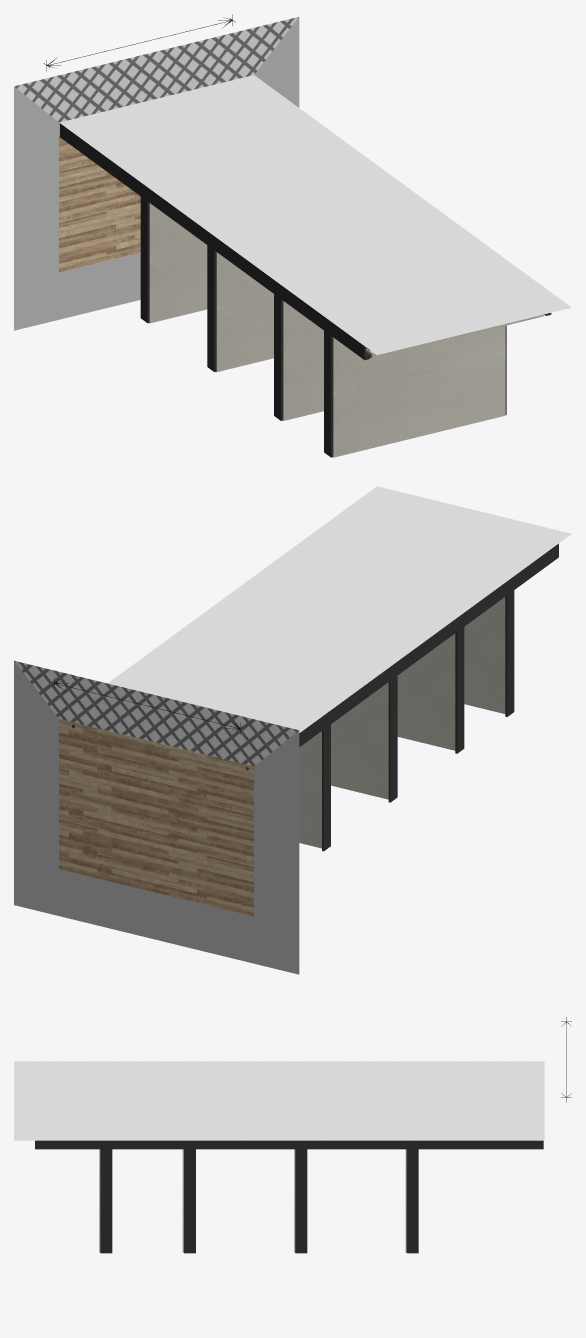
Rendered from D1 Linen.OBJ.
The picture shows the model from 3 angles, top to bottom: view 1: azimuth 30°, elevation 25°; view 2: azimuth 150°, elevation 25°; view 3: azimuth 270°, elevation 25°; orthographic projection. The views are drawn at different scales.
Visible parts, largest first — view 1: Object_42, Object_29, Object_43, Object_49, Object_41, Object_38, Object_35, Object_47, Object_2, Object_32, Object_45, Object_39 (+3 smaller); view 2: Object_42, Object_41, Object_43, Object_47, Object_49, Object_45, Object_32, Object_35, Object_29, Object_2, Object_38, Object_33 (+3 smaller); view 3: Object_42, Object_21, Object_31, Object_37, Object_40, Object_34.
Part boxes in pixels (box(x1,y1,x2,y2)): Object_42: box(59, 75, 571, 354); Object_29: box(333, 325, 505, 457); Object_43: box(14, 17, 298, 122); Object_49: box(14, 86, 58, 330); Object_41: box(59, 123, 140, 272); Object_38: box(149, 203, 207, 323); Object_35: box(216, 252, 273, 371); Object_47: box(14, 252, 140, 330); Object_2: box(60, 123, 369, 360); Object_32: box(283, 301, 323, 420); Object_45: box(254, 17, 299, 107); Object_39: box(140, 196, 149, 323); Object_42: box(108, 486, 571, 732); Object_41: box(59, 719, 253, 916); Object_43: box(14, 660, 298, 766); Object_47: box(14, 869, 298, 974); Object_49: box(254, 730, 299, 974); Object_45: box(14, 661, 58, 904); Object_32: box(397, 633, 455, 750); Object_35: box(331, 682, 388, 799); Object_29: box(464, 597, 505, 713); Object_2: box(299, 543, 558, 746); Object_38: box(299, 731, 321, 848); Object_33: box(455, 627, 464, 753); Object_42: box(14, 1061, 544, 1140); Object_21: box(35, 1140, 543, 1149); Object_31: box(100, 1149, 112, 1253); Object_37: box(295, 1149, 307, 1253); Object_40: box(406, 1149, 418, 1253); Object_34: box(184, 1149, 195, 1253).
Bounding box in the file's own units: 1264 × 1060 × 2565.
Materials: 11 (11 with a texture image).
